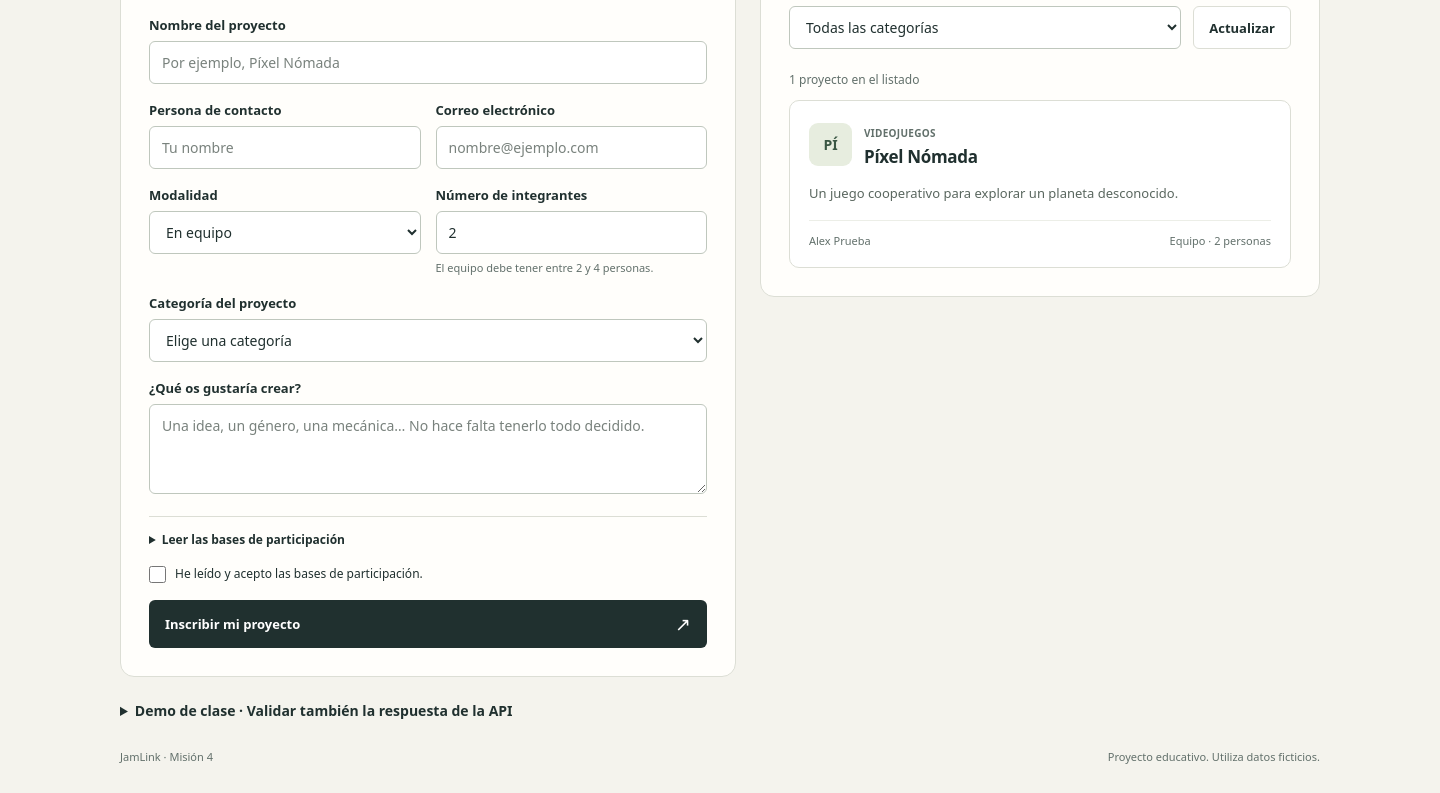
Bonus: respuesta incorrecta de una API › detecta el campo incorrecto y no modifica el listado de inscripciones
(page scrolled)
Check: the heading "Píxel Nómada" is shown, box [864, 145, 978, 168]
Click the heading "Demo de clase · Validar también la respuesta de la API".
click(324, 710)  # box [135, 701, 512, 720]
(page scrolled)
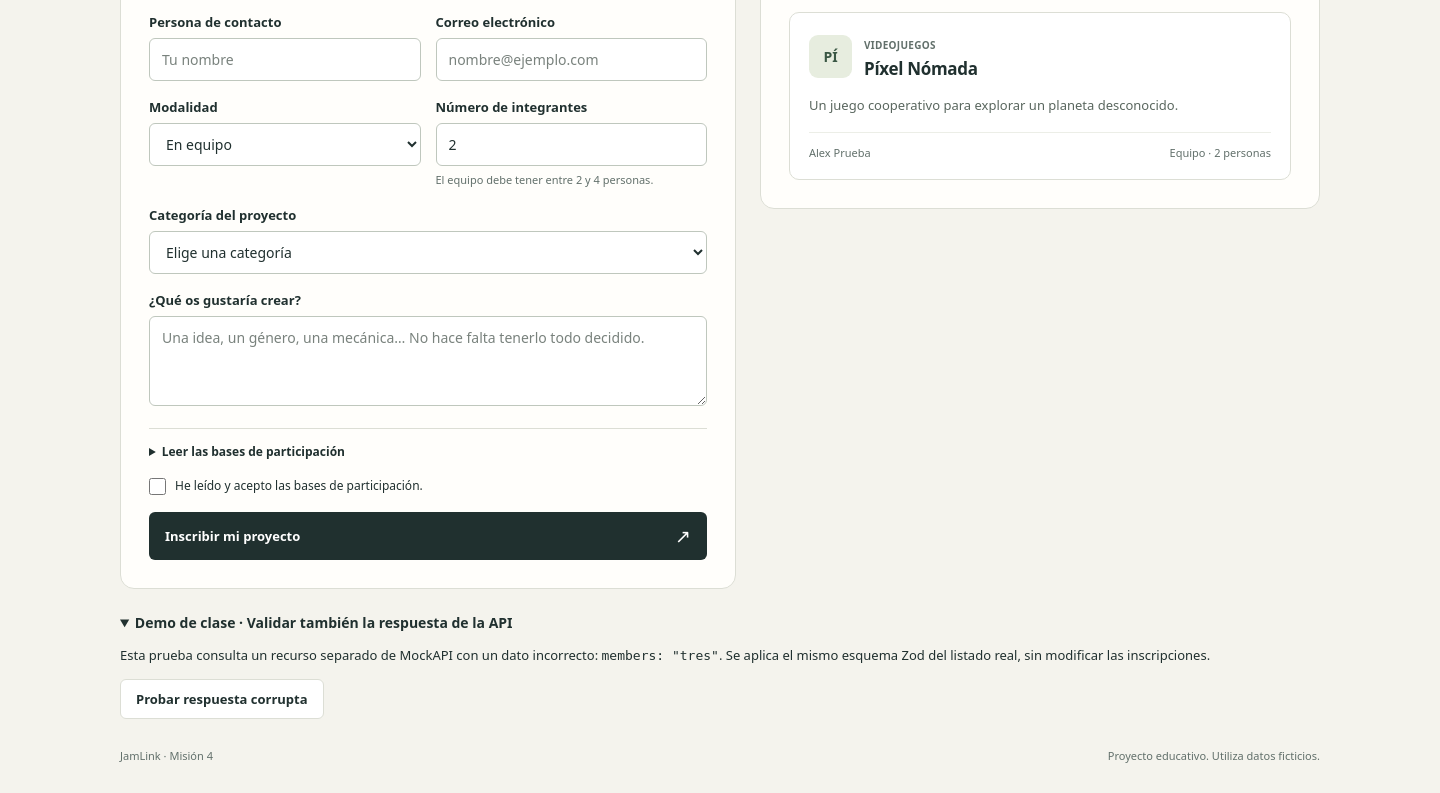
Click the button "Probar respuesta corrupta".
click(222, 699)  # box [120, 679, 324, 719]
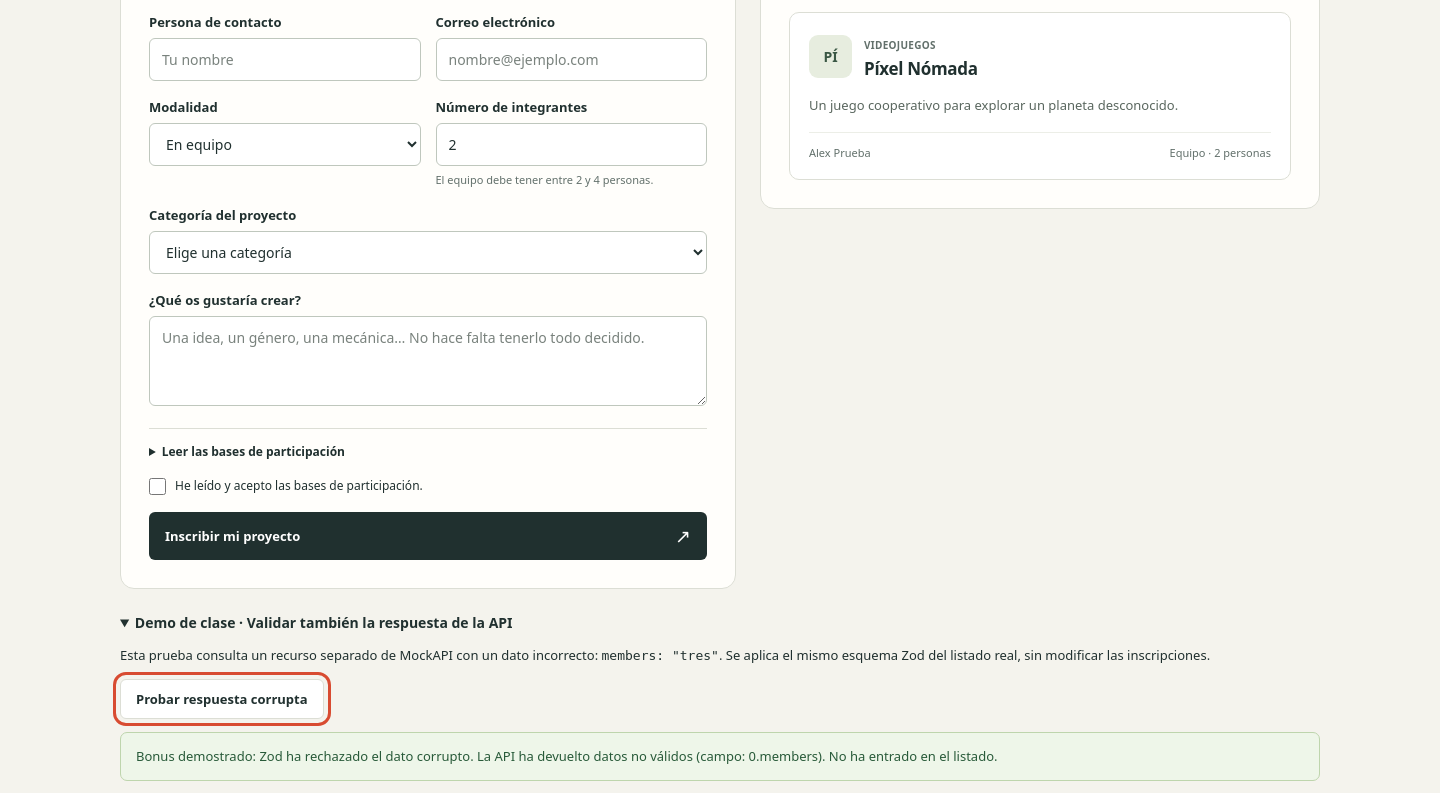
Check: the number of list items is 1, box [789, 12, 1291, 180]
Check: the text "Bonus demostrado: Zod ha rechazado el dato corrupto" shows "0.members", box [477, 747, 826, 765]
